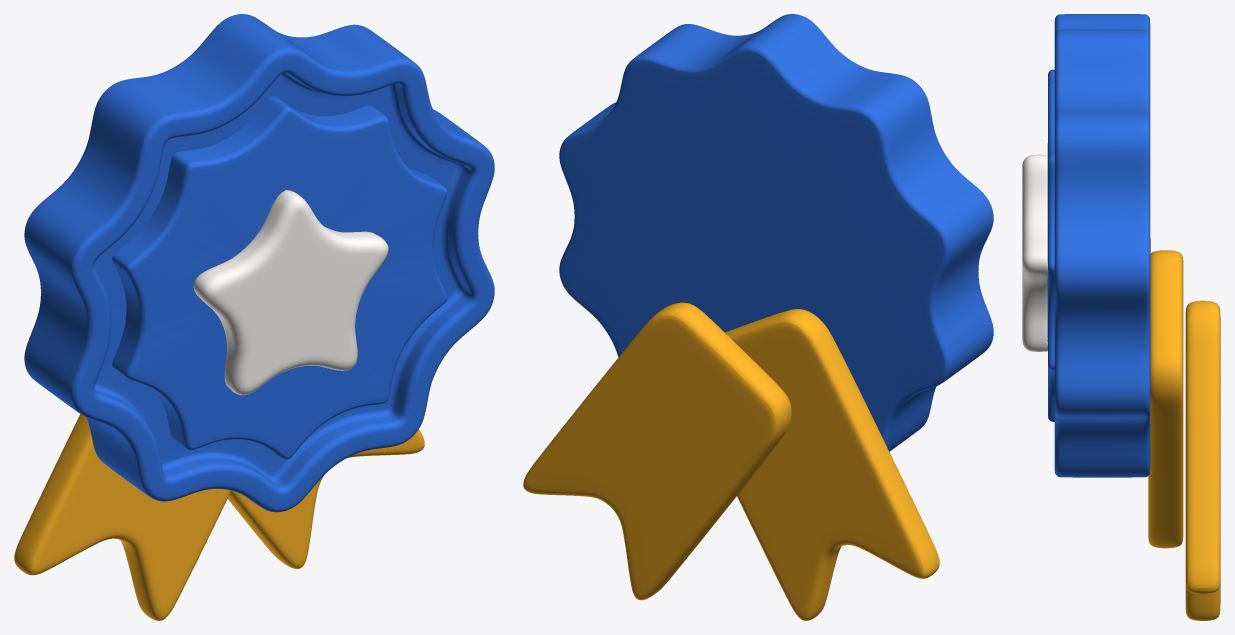
The model's file is star-medal-animated-3d-icon-106758226964.glb.
3 views of the same model, side by side, from view 1: azimuth 30°, elevation 25°; view 2: azimuth 150°, elevation 25°; view 3: azimuth 270°, elevation 25° (orthographic). The views are drawn at different scales.
Parts seen in each view (by area): view 1: Circle.001, Circle.002, Star.001, Retopo_Plane.001, Retopo_Plane.002; view 2: Circle.001, Retopo_Plane.002, Retopo_Plane.001; view 3: Circle.001, Retopo_Plane.002, Retopo_Plane.001, Star.001, Circle.002.
Boxes of the visible parts, box(x1,y1,x2,y2) form: Circle.001: box(24, 14, 494, 512); Circle.002: box(112, 96, 447, 459); Star.001: box(193, 190, 388, 395); Retopo_Plane.001: box(14, 414, 231, 620); Retopo_Plane.002: box(227, 429, 424, 568); Circle.001: box(559, 14, 993, 451); Retopo_Plane.002: box(523, 302, 791, 600); Retopo_Plane.001: box(725, 309, 939, 620); Circle.001: box(1054, 14, 1150, 477); Retopo_Plane.002: box(1185, 300, 1220, 620); Retopo_Plane.001: box(1148, 250, 1183, 548); Star.001: box(1022, 154, 1047, 351); Circle.002: box(1047, 69, 1054, 421).
Bounding box in the file's own units: 1.27 × 1.7 × 0.5569.
